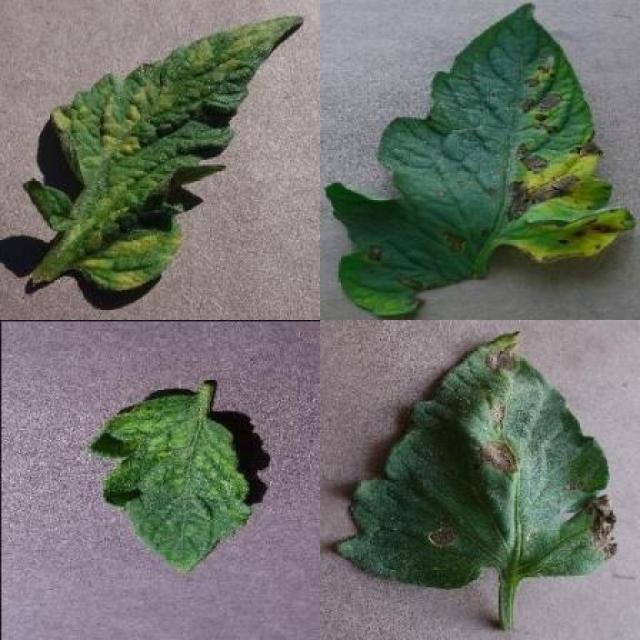Early Blight: (322, 3, 635, 320), (337, 332, 617, 592)
Leaf Mold: (26, 15, 305, 291)
Mosaic Virus: (84, 394, 250, 572)
